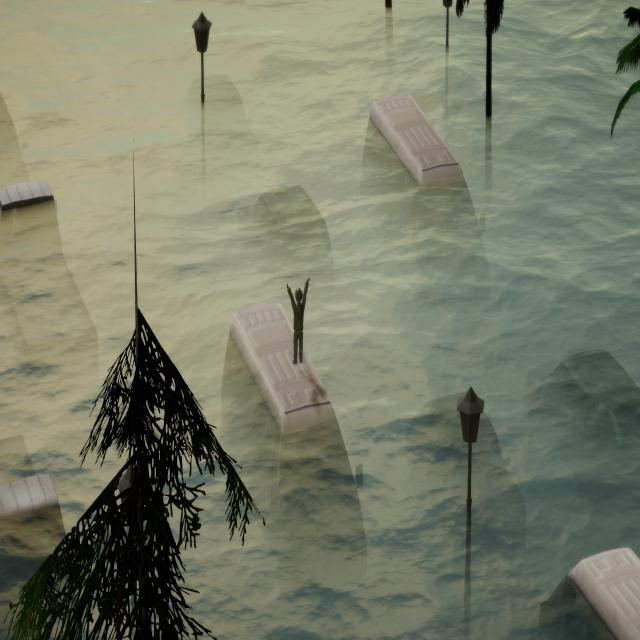Human: (282, 272, 310, 375)
